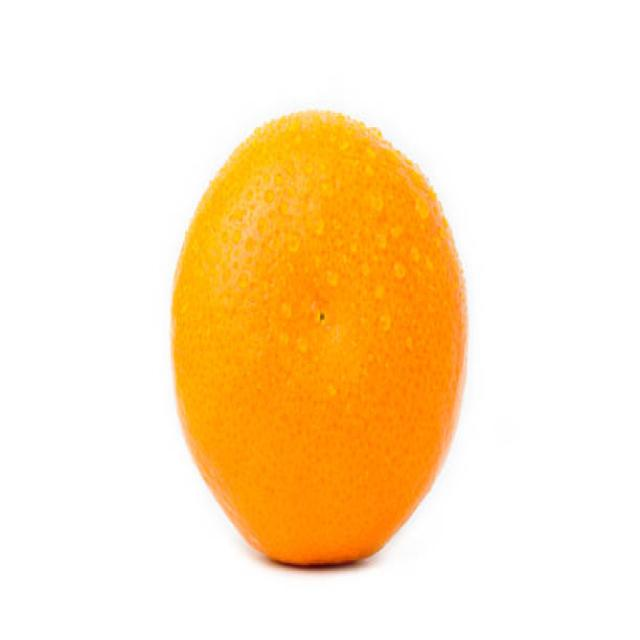Ripe: (165, 101, 472, 567)
